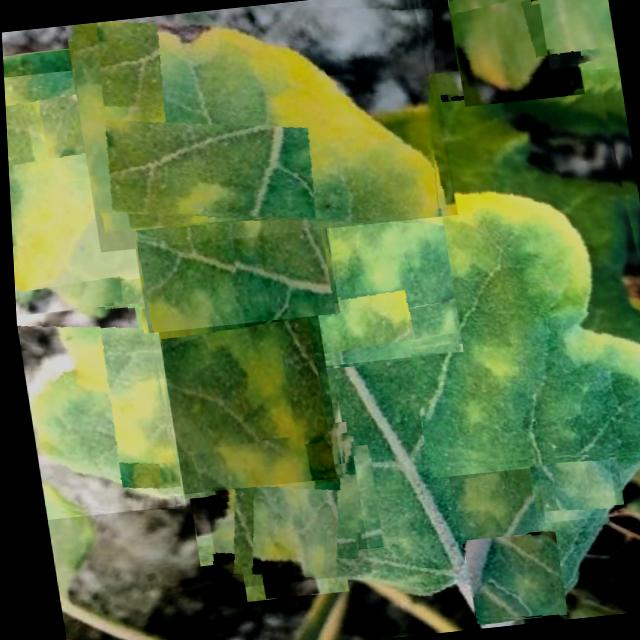leaf_spot: (364, 54, 640, 478), (62, 0, 455, 252), (2, 57, 223, 316), (98, 268, 338, 499), (115, 120, 336, 333), (261, 178, 459, 369), (12, 300, 179, 520), (190, 421, 364, 589), (446, 0, 583, 106), (456, 530, 560, 624), (441, 458, 535, 556), (528, 443, 611, 522), (536, 0, 617, 69)
